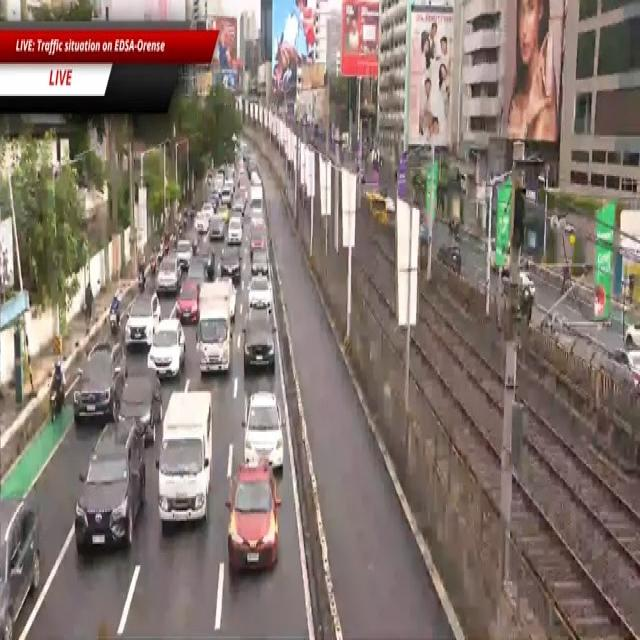car: (67, 425, 147, 562), (0, 483, 45, 633), (224, 473, 281, 588), (72, 333, 124, 423), (244, 388, 285, 471), (125, 366, 167, 437), (154, 315, 184, 383), (126, 293, 161, 348), (245, 307, 274, 372), (248, 272, 273, 320), (247, 215, 269, 254), (222, 244, 241, 287), (159, 254, 177, 295), (172, 238, 195, 270), (227, 213, 247, 248), (208, 215, 224, 242), (192, 211, 208, 230)
motorbike: (38, 352, 70, 432), (101, 288, 123, 337)
truck: (187, 278, 237, 378)
